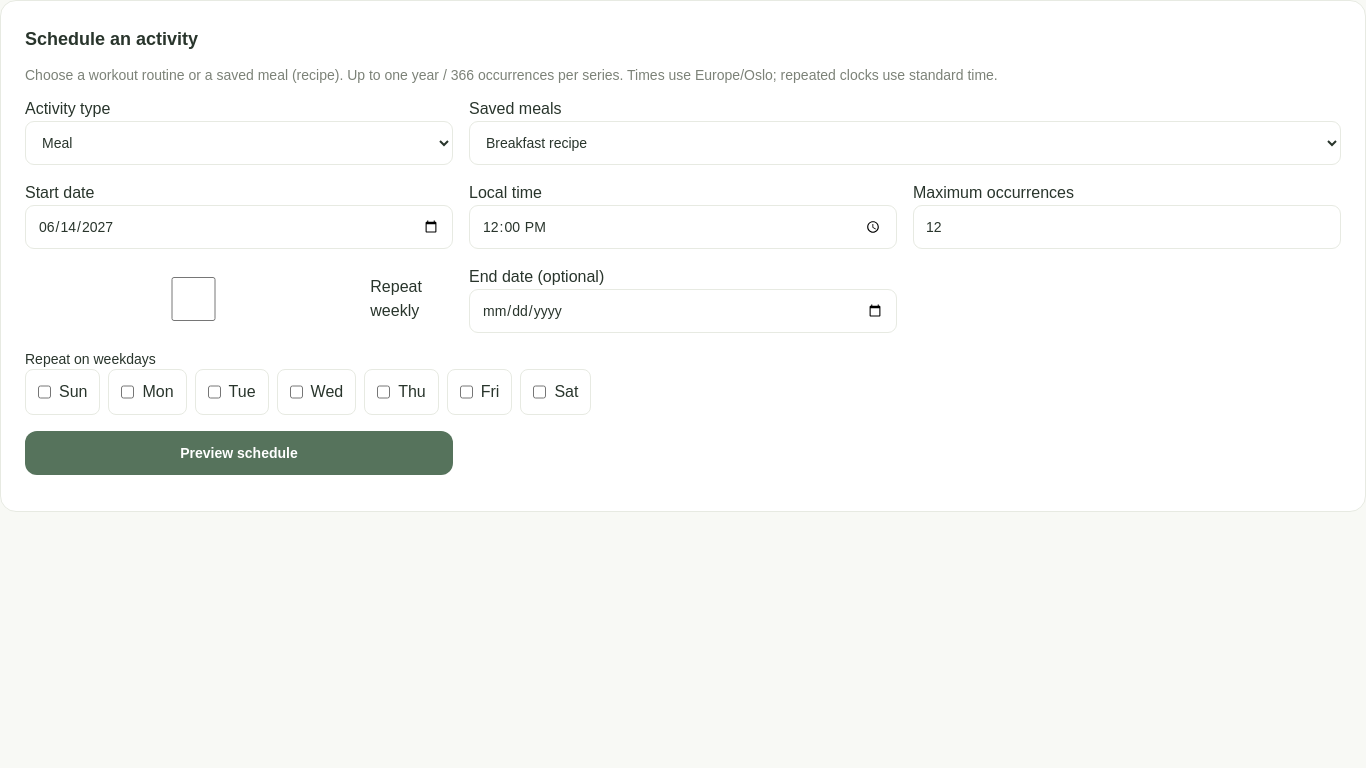
Test: a scheduling link preselects an owned recipe but still requires preview and acknowledgement
Expected: the dropdown labelled "Saved meals" shows "Breakfast recipe", 469,121 -> 1341,165
Expected: the button "Save schedule" is not shown
Click the button "Preview schedule": click(239, 453) 25,431 -> 453,475
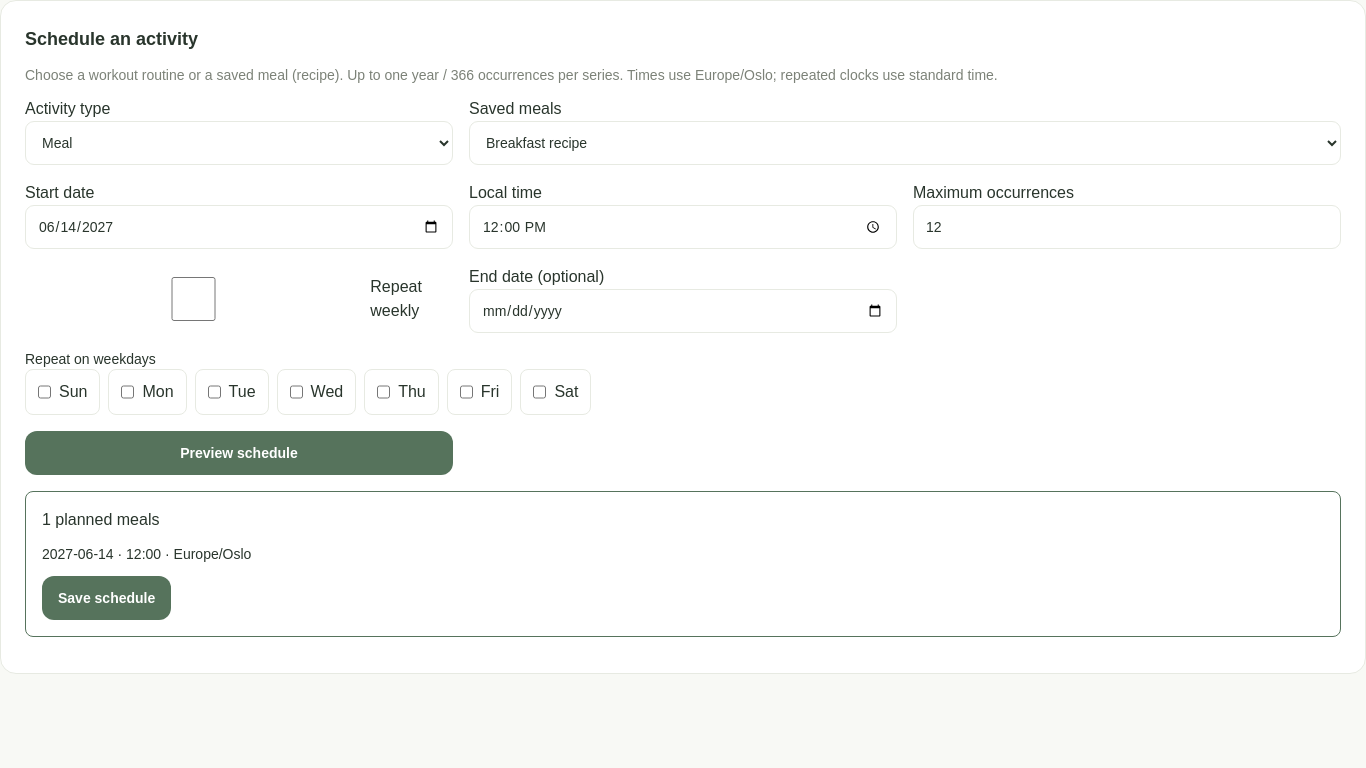
Click the button "Save schedule": click(107, 598) 42,576 -> 171,620
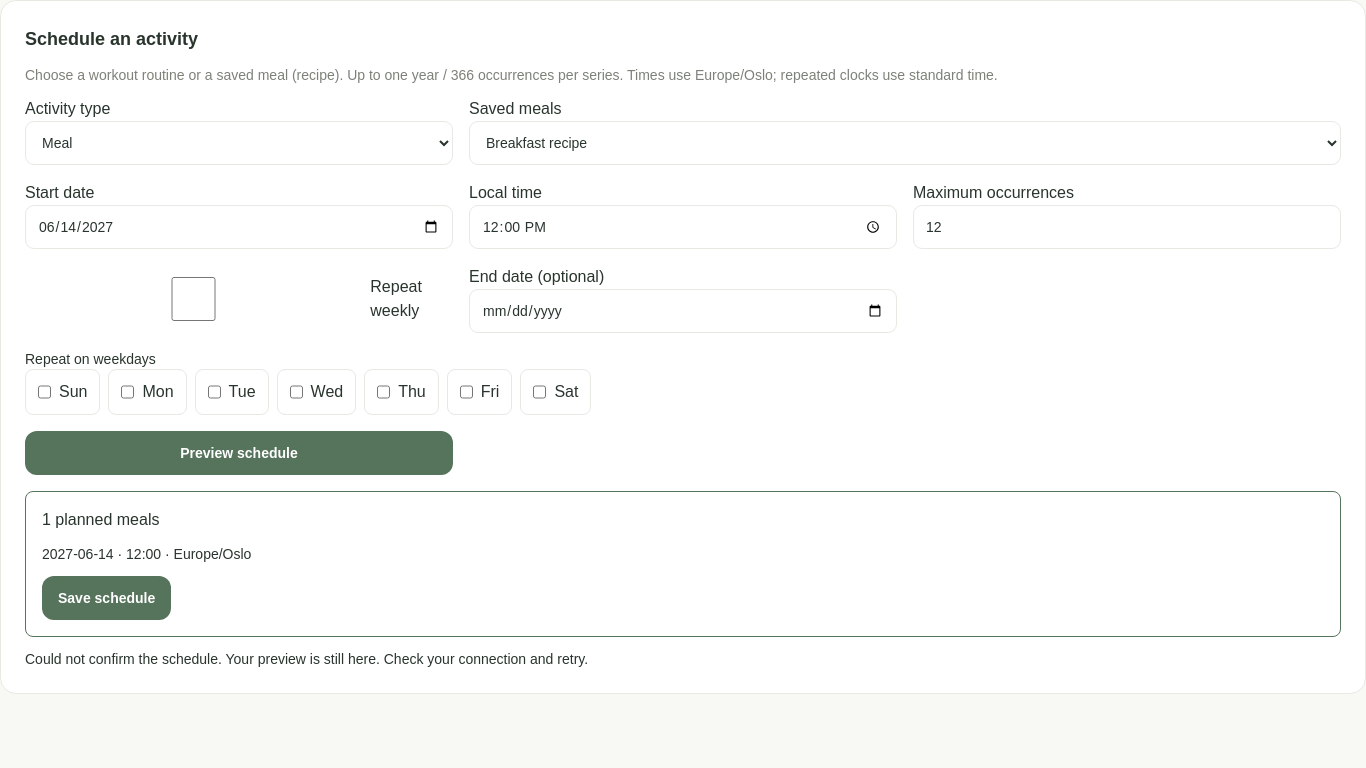
Expected: the text "1 planned meals" is shown, 42,511 -> 159,528
Expected: the text "Your preview is still here" is shown, 25,651 -> 588,667
Click the button "Save schedule": click(107, 598) 42,576 -> 171,620
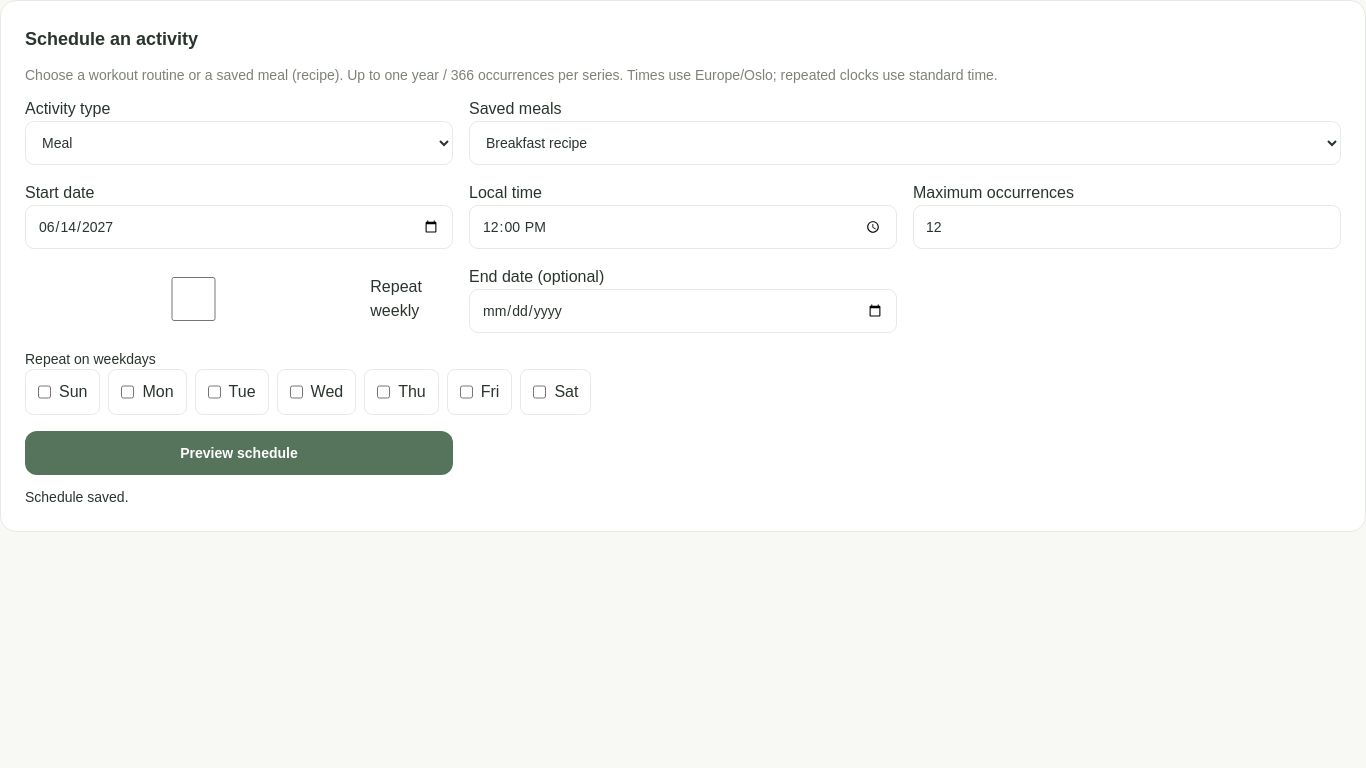
Expected: the text "Schedule saved." is shown, 25,489 -> 128,505
